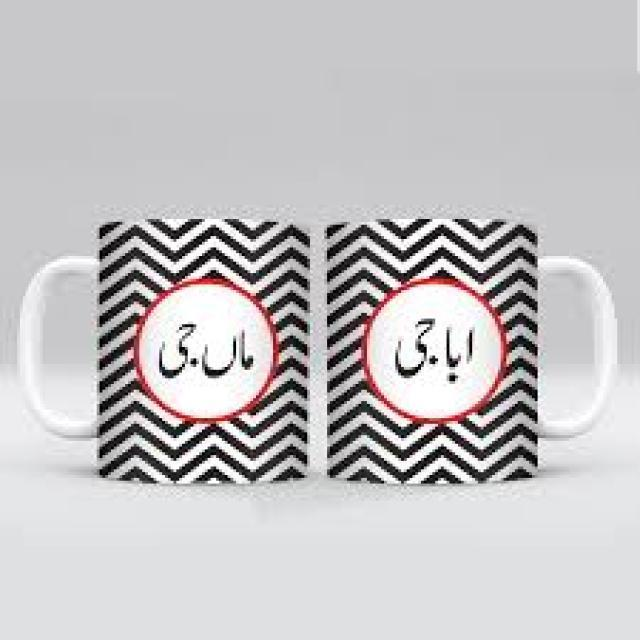taza: (324, 203, 622, 492), (13, 201, 316, 478)
